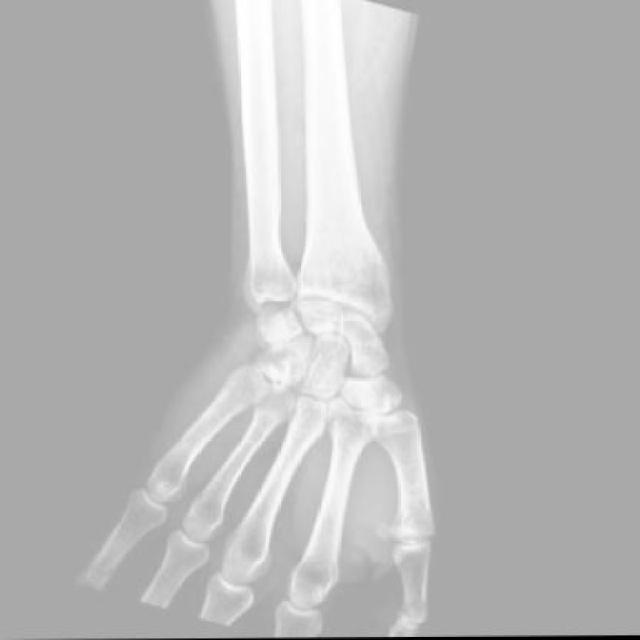bone: (254, 303, 302, 354)
